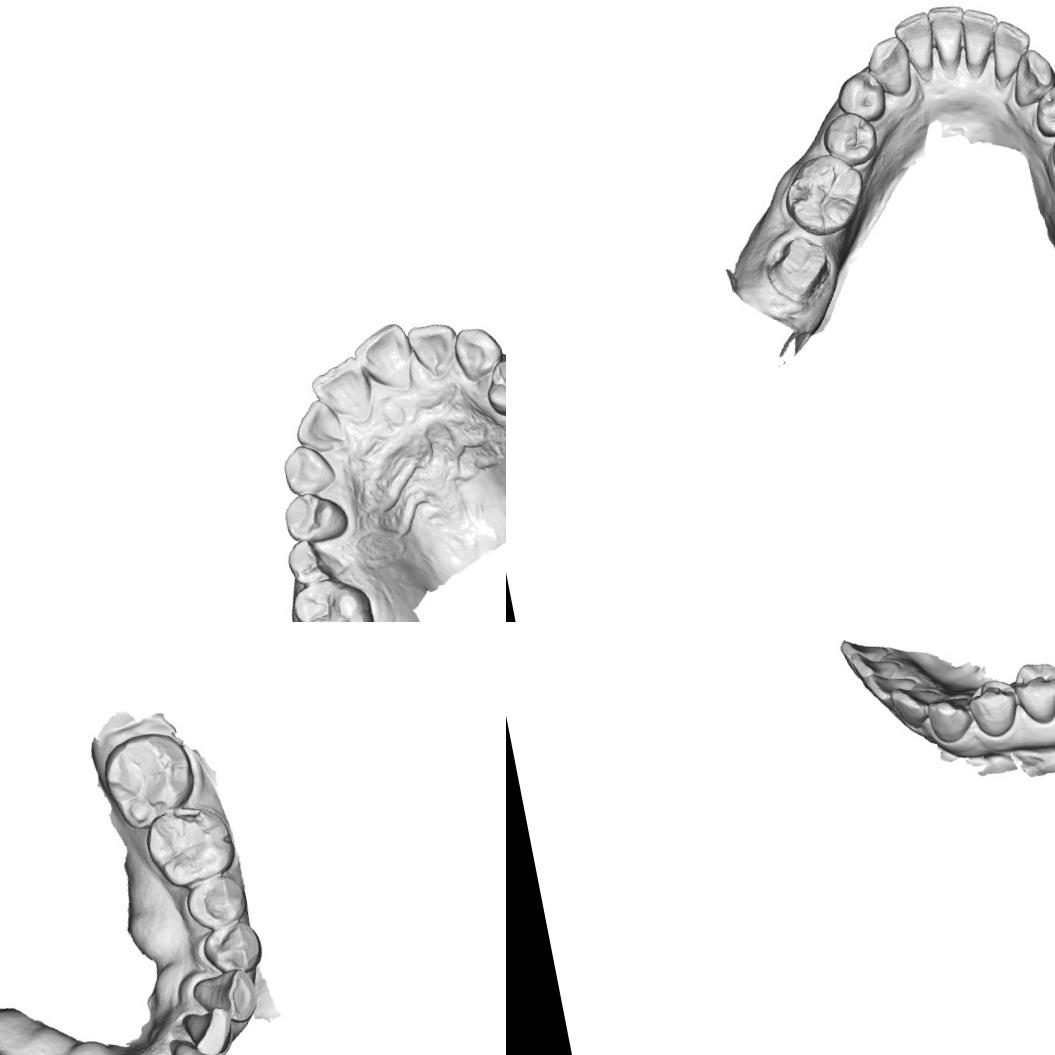canine: (190, 962, 261, 1028), (278, 437, 340, 500), (860, 31, 915, 102), (448, 319, 506, 385), (922, 686, 978, 748), (1004, 44, 1055, 109)
crown: (759, 230, 836, 308)
incisor: (346, 318, 420, 402), (304, 350, 378, 432), (403, 315, 464, 381), (288, 393, 346, 459), (983, 14, 1037, 81), (890, 8, 942, 76), (956, 2, 1006, 68), (176, 1001, 236, 1055), (886, 679, 945, 733), (926, 0, 972, 65), (860, 665, 918, 706), (846, 644, 902, 684), (836, 630, 892, 666), (166, 1032, 225, 1055)
molar: (95, 723, 204, 832), (141, 794, 241, 892), (774, 146, 874, 243), (285, 570, 380, 622)
premolar: (278, 485, 352, 550), (197, 914, 266, 979), (181, 870, 250, 934), (815, 107, 882, 172), (962, 674, 1024, 742), (828, 64, 889, 128), (281, 531, 347, 589), (1008, 655, 1055, 729), (479, 350, 506, 419), (1025, 79, 1055, 140)
